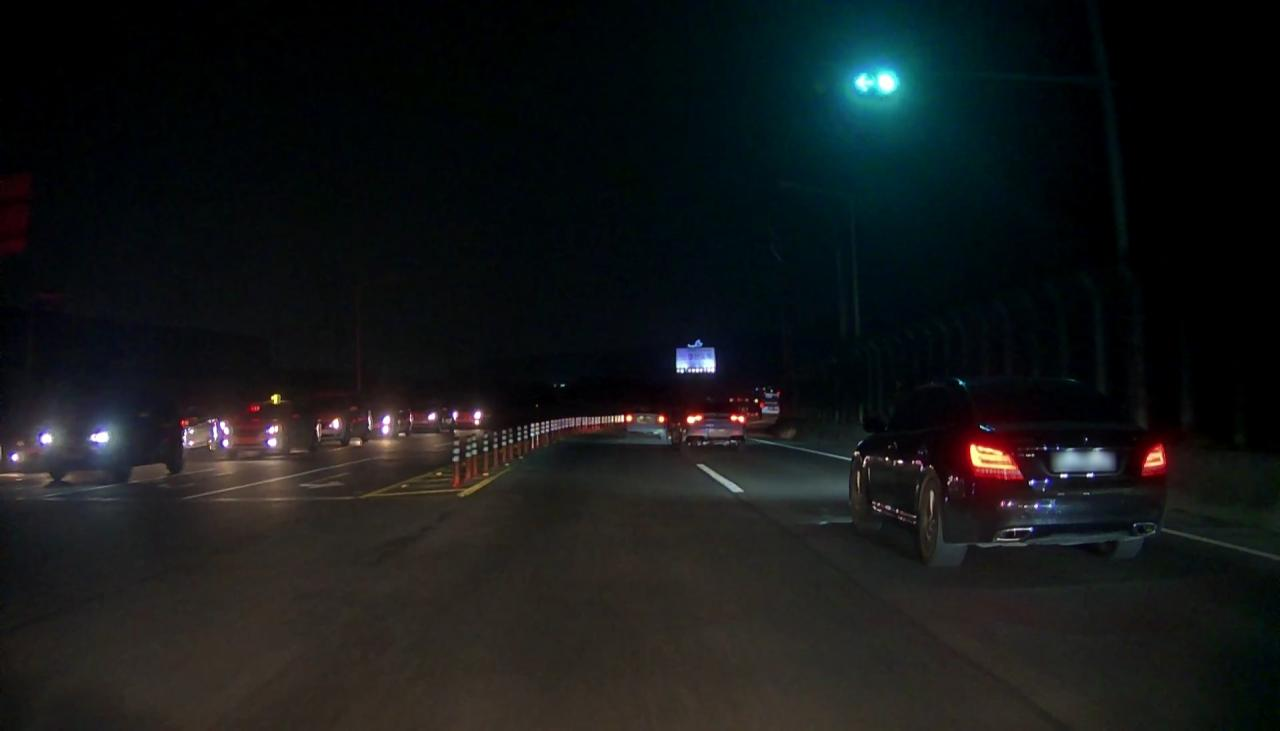Green Light: (874, 68, 902, 96)
Left turn: (848, 66, 876, 98)
